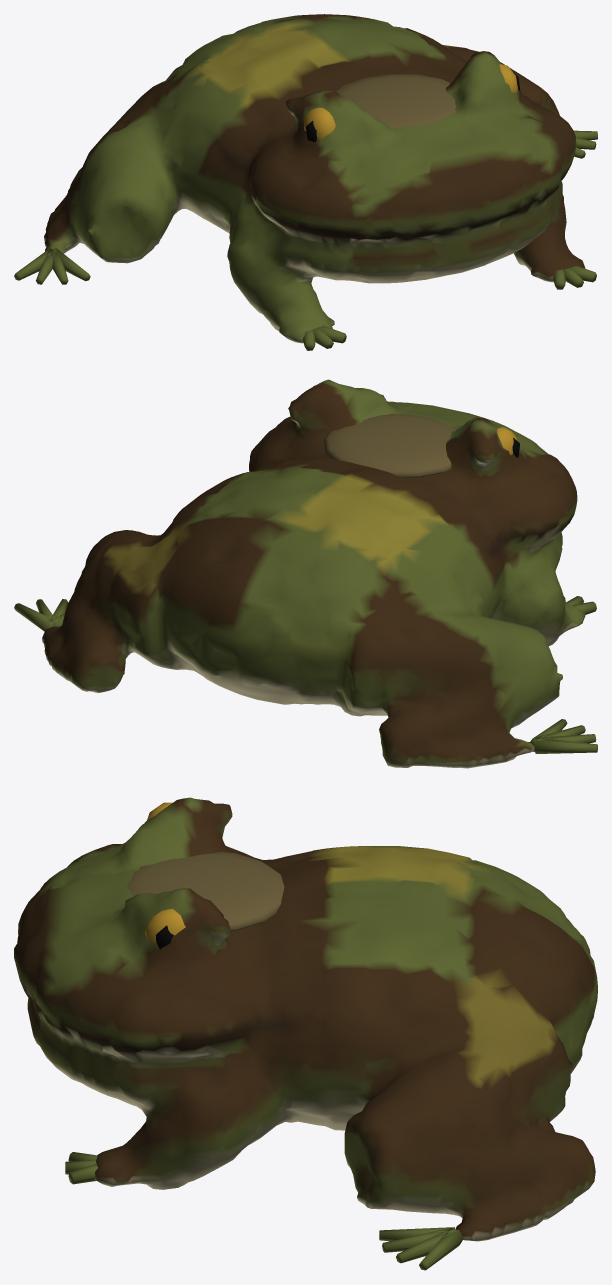
File: Beelzebufo.fbx
3 renders of one model, top to bottom at view 1: azimuth 30°, elevation 25°; view 2: azimuth 150°, elevation 25°; view 3: azimuth 270°, elevation 25°, orthographic. The views are drawn at different scales.
Visible parts, largest first — view 1: Beelzebufo; view 2: Beelzebufo; view 3: Beelzebufo.
Part boxes in pixels (x1,y1,x2,y2): Beelzebufo: (14,14,597,350); Beelzebufo: (14,379,597,768); Beelzebufo: (14,797,597,1270).
Size of the model in its own units: 0.6525 by 0.237 by 0.4649.
